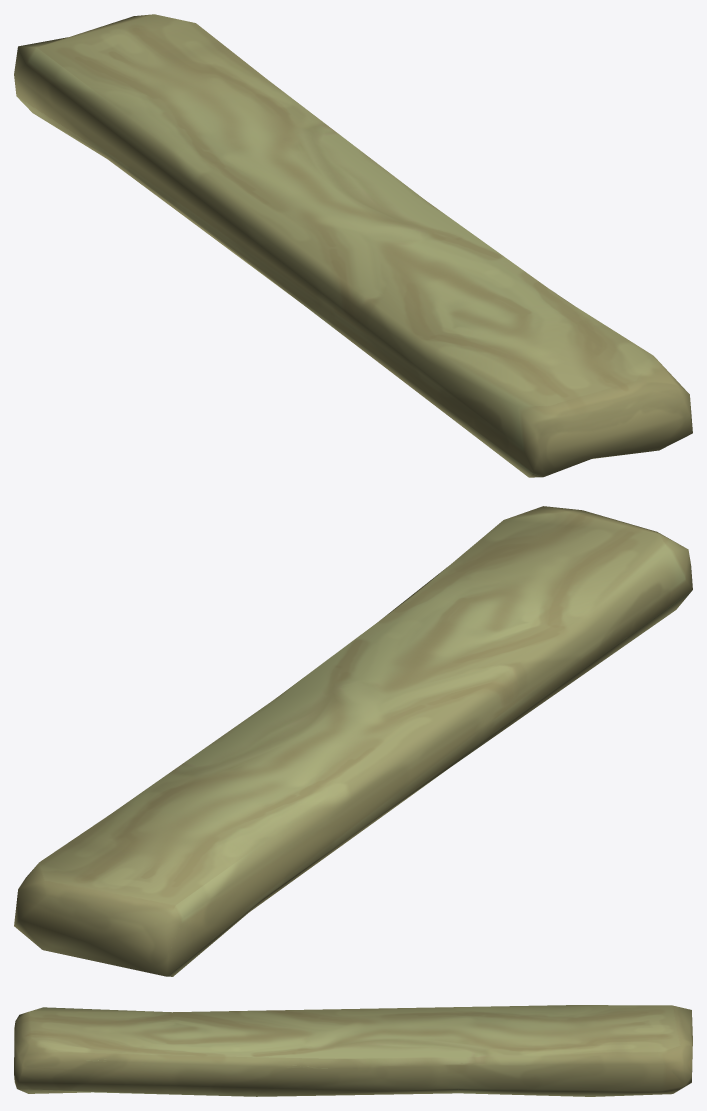
The model's file is woodplank.fbx.
3 views of the same model, one above another, from view 1: azimuth 30°, elevation 25°; view 2: azimuth 150°, elevation 25°; view 3: azimuth 270°, elevation 25° (orthographic). The views are drawn at different scales.
Parts seen in each view (by area): view 1: Cube; view 2: Cube; view 3: Cube.
Part boxes in pixels (x1,y1,x2,y2): Cube: [14, 14, 692, 477]; Cube: [14, 506, 692, 976]; Cube: [14, 1005, 692, 1096].
Bounding box in the file's own units: 973 × 175 × 72.73.
Materials: 1 (1 with a texture image).
